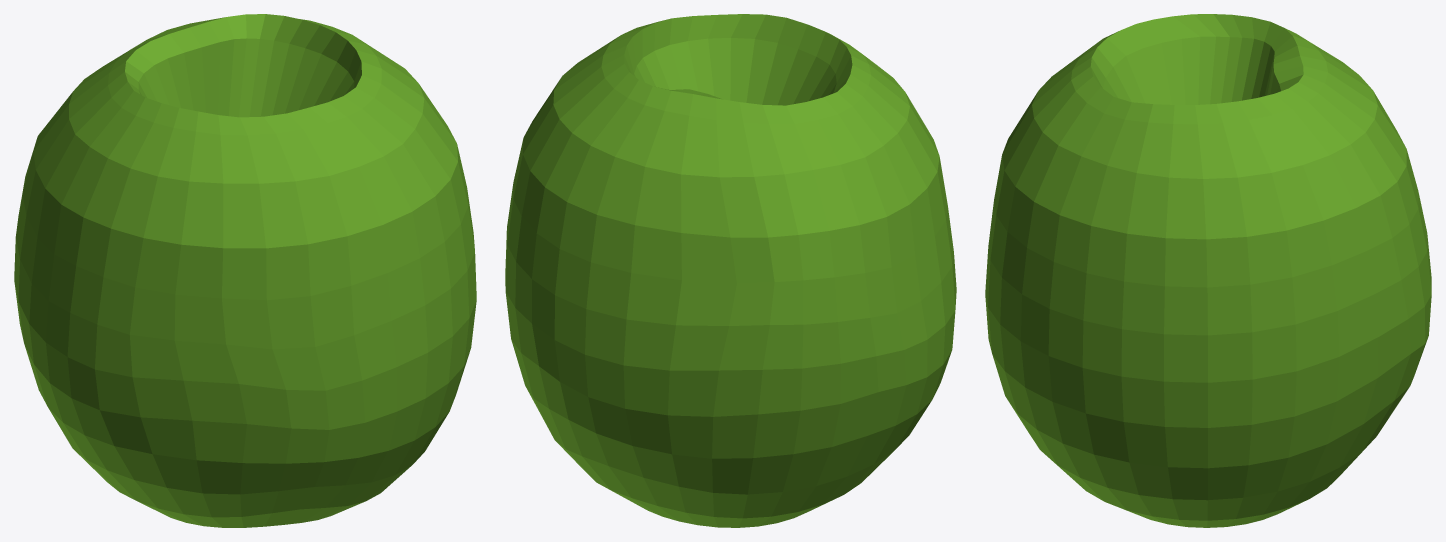
Rendered from Olive.fbx.
3 renders of one model, left to right at view 1: azimuth 30°, elevation 25°; view 2: azimuth 150°, elevation 25°; view 3: azimuth 270°, elevation 25°, orthographic. The views are drawn at different scales.
Parts seen in each view (by area): view 1: Sphere; view 2: Sphere; view 3: Sphere.
Part boxes in pixels (x1,y1,x2,y2): Sphere: [14, 14, 476, 527]; Sphere: [505, 14, 956, 527]; Sphere: [985, 14, 1431, 527].
Bounding box in the file's own units: 171 × 185 × 170.
